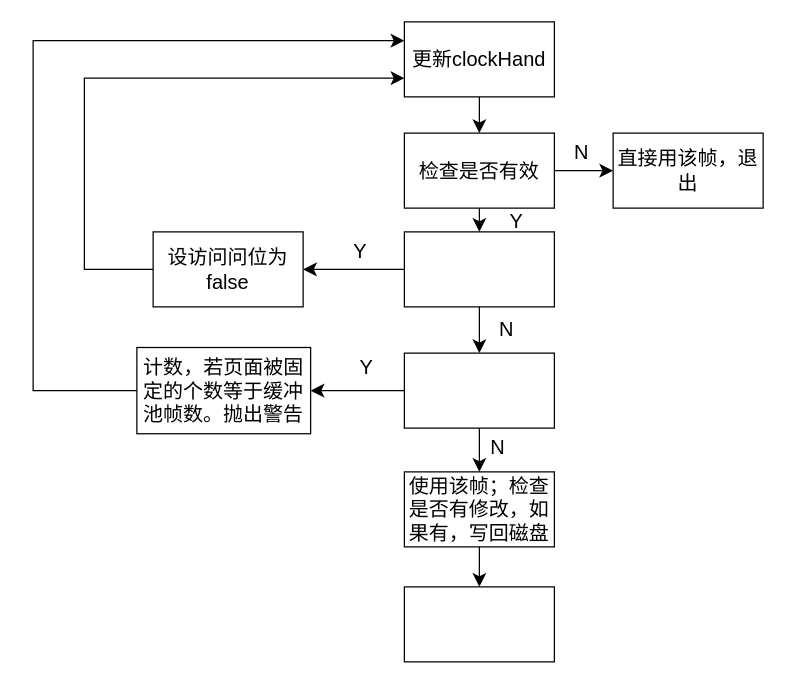
Some shapes in this 785 by 684 pixel diagram are drawn without their labels. Here are the shapes that lost their labels. From the top down, the centre of each, then its label:
point (478, 269): 检查最近是否被访问
point (478, 390): 检查页面是否被固定
point (478, 624): 删除对应哈希表的项
